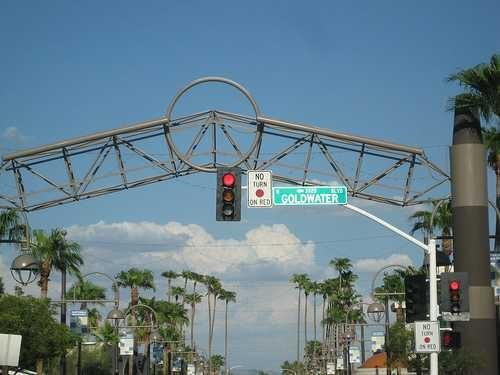red: (218, 169, 239, 223), (221, 171, 237, 187)
